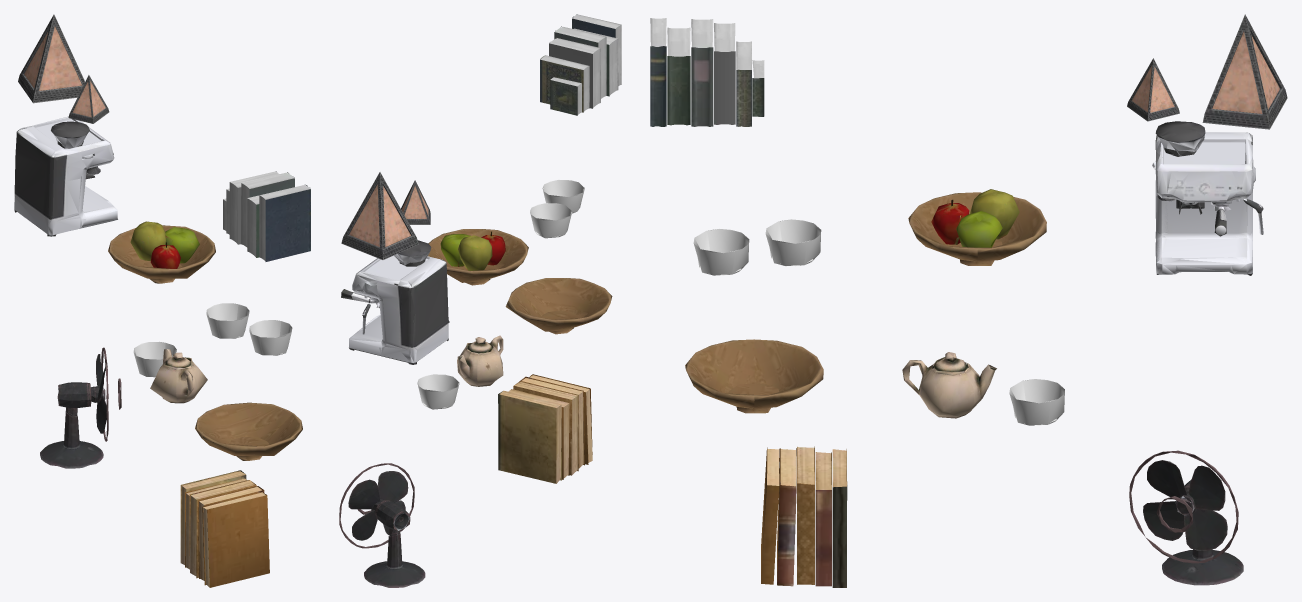
File: SM_Cupboard_Kitchen_props_d40012.glb
3 views of the same model, side by side, from view 1: azimuth 30°, elevation 25°; view 2: azimuth 150°, elevation 25°; view 3: azimuth 270°, elevation 25° (orthographic). The views are drawn at different scales.
Size of the model in its own units: 0.3763 by 1.62 by 1.69.
Materials: 9 (8 with a texture image).
